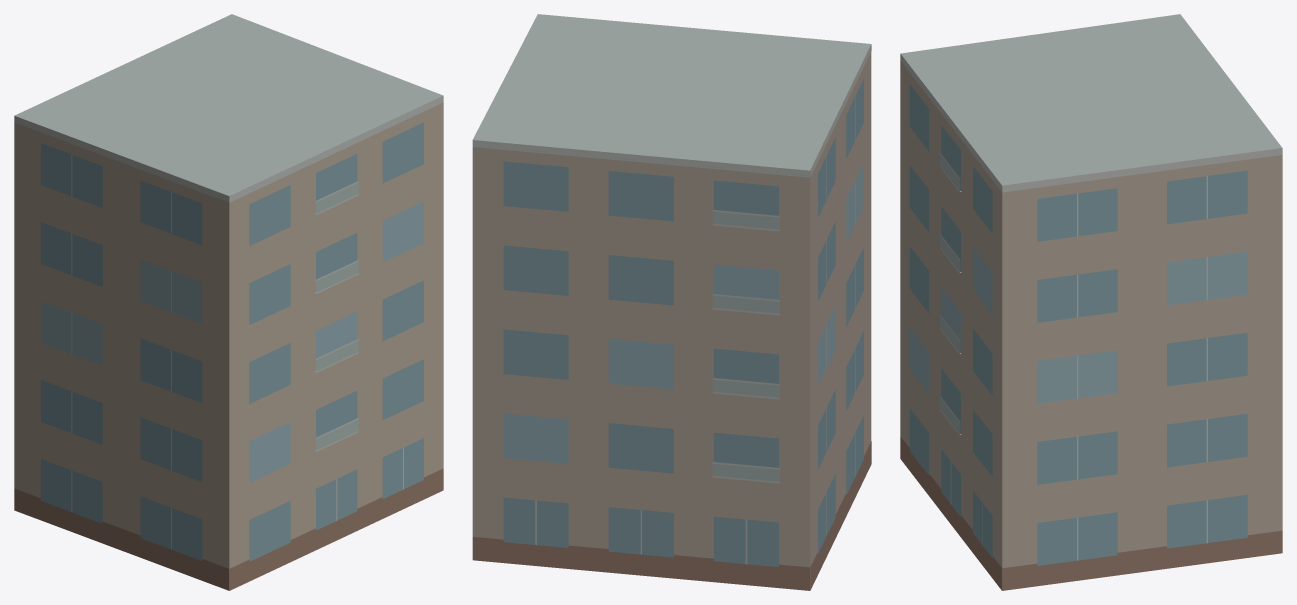
Rendered from survey-upis-32969553.glb.
3 renders of one model, left to right at view 1: azimuth 30°, elevation 25°; view 2: azimuth 150°, elevation 25°; view 3: azimuth 270°, elevation 25°, orthographic. The views are drawn at different scales.
Parts seen in each view (by area): view 1: survey-upis-32969553.tmp; view 2: survey-upis-32969553.tmp; view 3: survey-upis-32969553.tmp.
Boxes of the visible parts, box(x1,y1,x2,y2) form: survey-upis-32969553.tmp: box(14, 14, 443, 590); survey-upis-32969553.tmp: box(472, 14, 871, 590); survey-upis-32969553.tmp: box(900, 14, 1282, 590).
Size of the model in its own units: 13.09 by 14.4 by 12.32.
